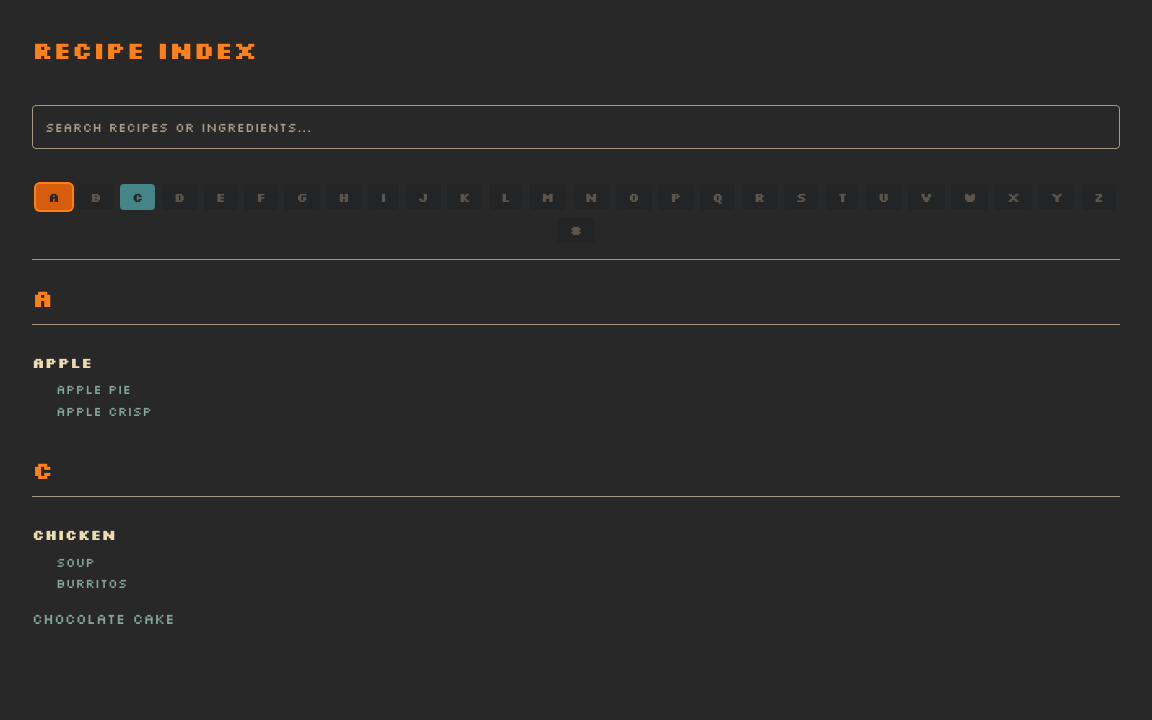
RecipeList - Index View › shows no results message when search has no matches
The image size is (1152, 720).
Expected: the text "Apple" is shown, [32,353,92,372]
Type "nonexistent" into the field with placeholder "Search recipes or ingredients..." at (576, 127), box [32,105,1120,149]
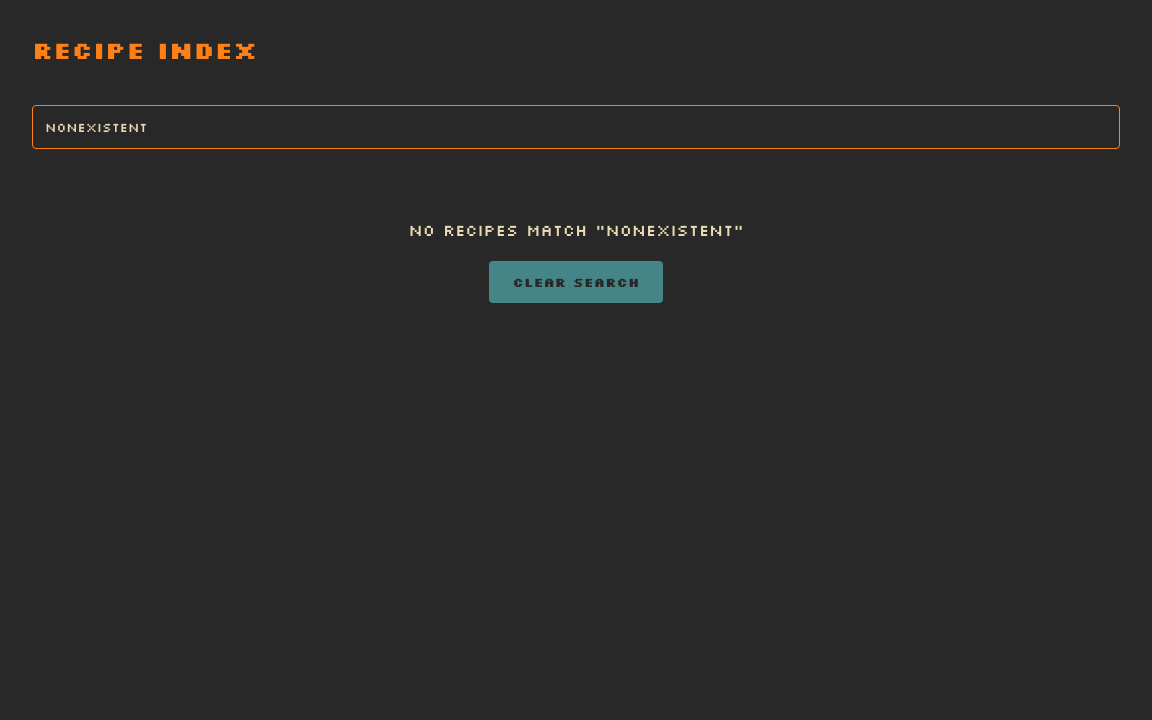
Result: the text "No recipes match \"nonexistent\"" is shown at [408,219,744,240]
Result: the button "Clear search" is shown at [489,260,663,303]
